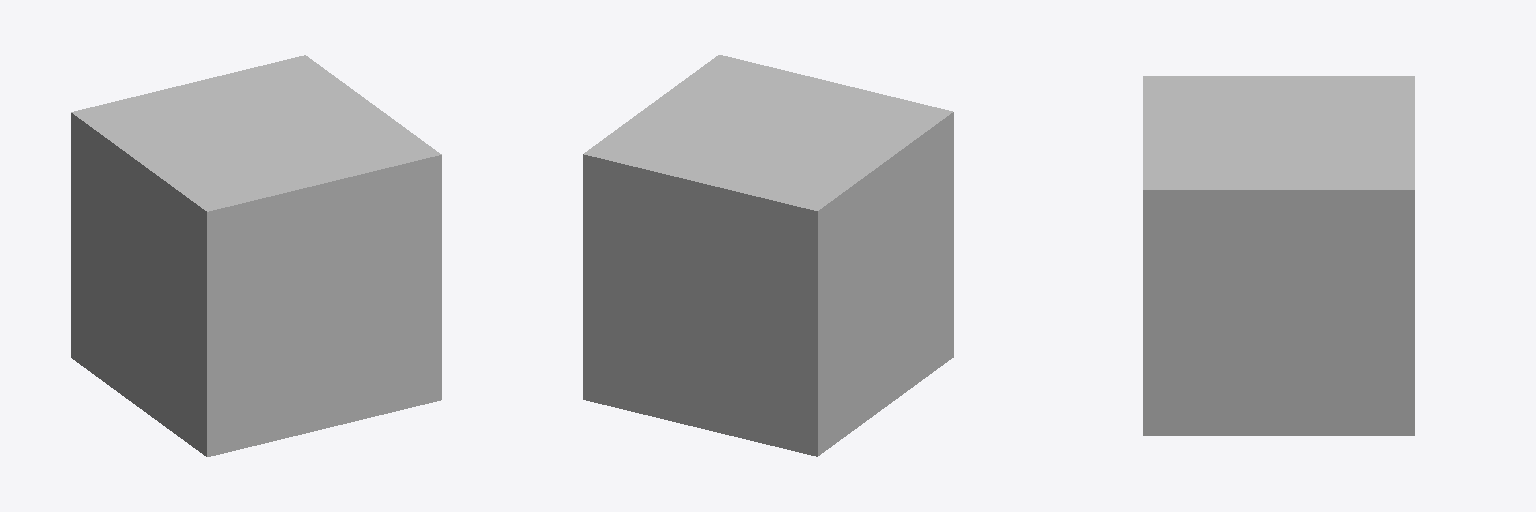
Rendered from incorrect.obj.
3 views of the same model, side by side, from view 1: azimuth 30°, elevation 25°; view 2: azimuth 150°, elevation 25°; view 3: azimuth 270°, elevation 25° (orthographic).
Parts seen in each view (by area): view 1: Cube; view 2: Cube, Cube.002, Cube.001; view 3: Cube.
Boxes of the visible parts, box(x1,y1,x2,y2) form: Cube: box(71, 55, 441, 456); Cube: box(583, 55, 953, 456); Cube.002: box(630, 292, 703, 364); Cube.001: box(707, 225, 795, 320); Cube: box(1143, 76, 1414, 435).
Size of the model in its own units: 11.38 by 11.38 by 11.44.